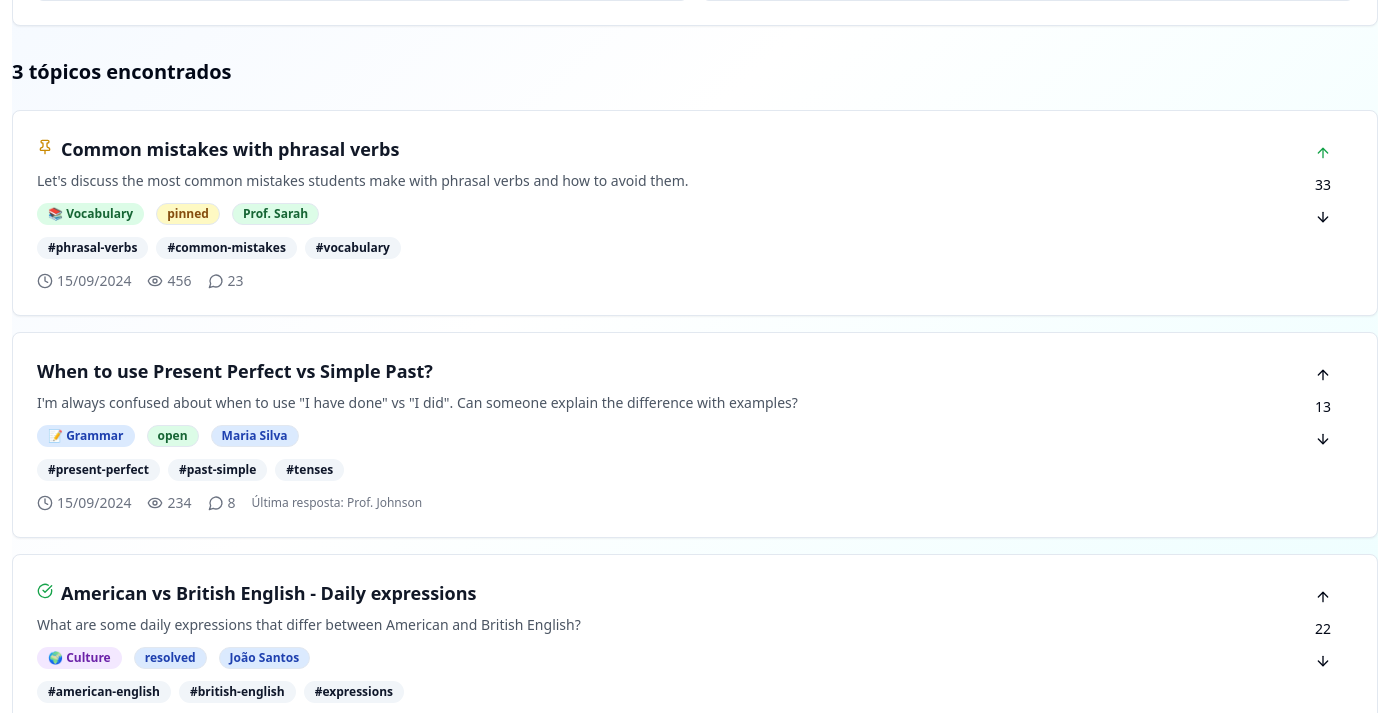
Scenario: Forum Component › Forum Statistics and Interaction › should increment view count when entering topic
(page scrolled)
Click the heading "When to use Present Perfect vs Simple Past?" at (235, 371), box [37, 357, 433, 385]
(page scrolled)
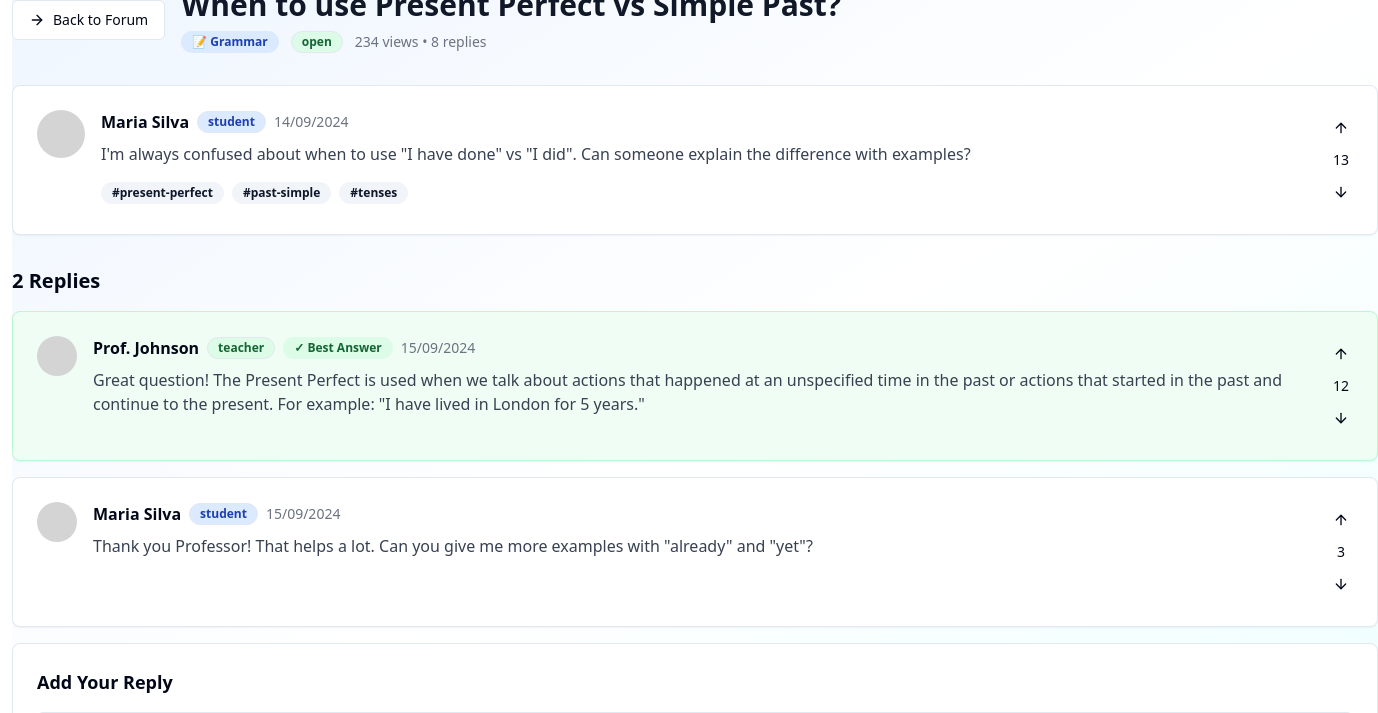
Now the text "234 views • 8 replies" is shown, box [355, 32, 487, 52]
